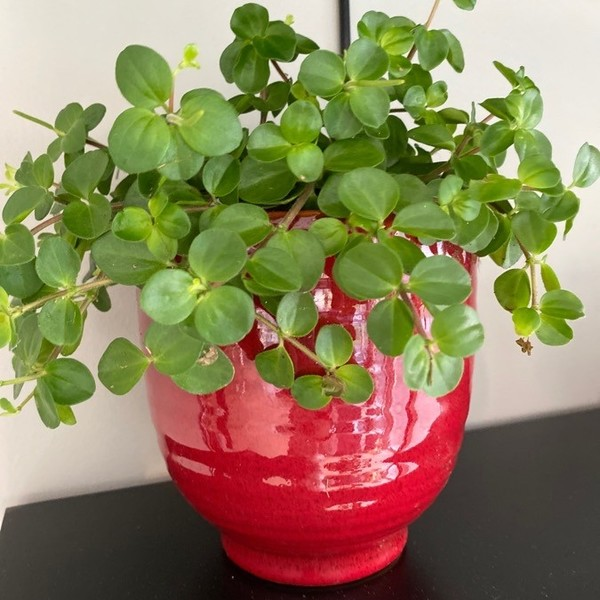obstacle: (12, 16, 578, 580)
